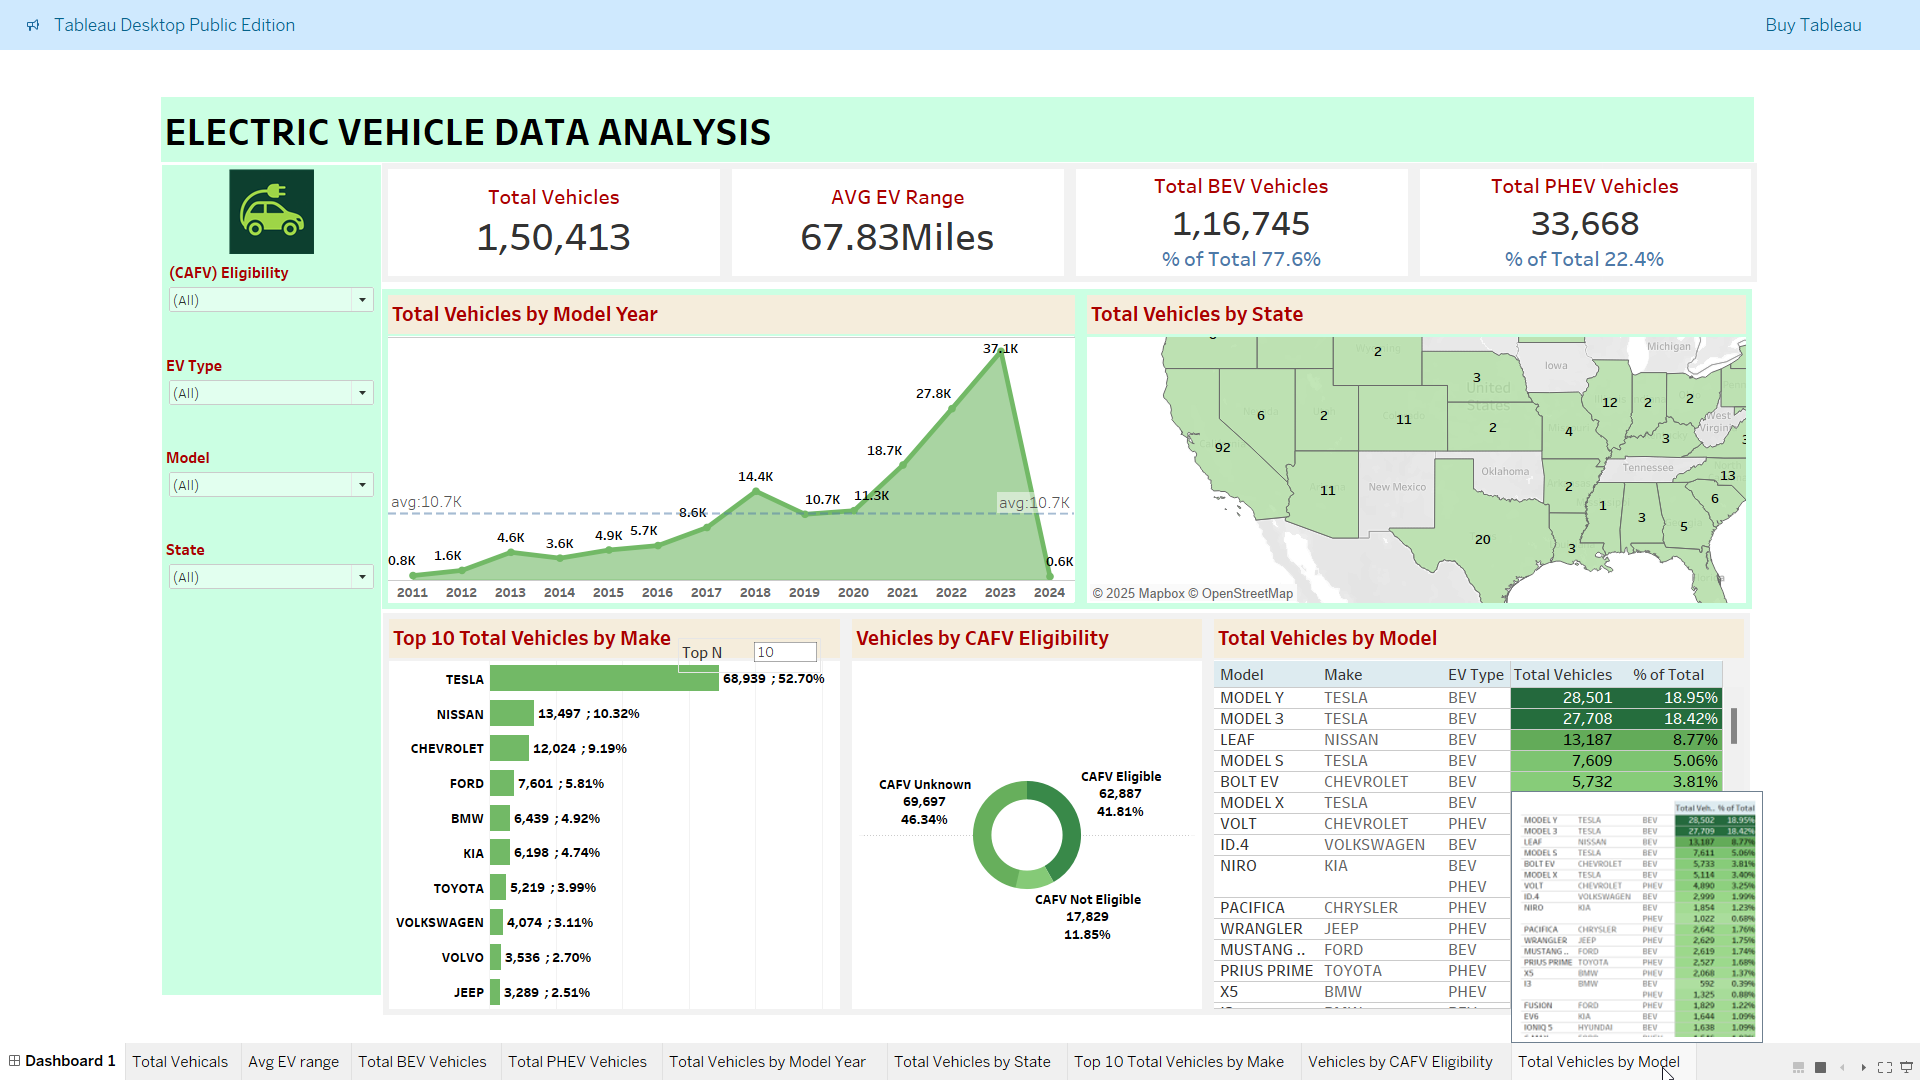

What the dashboard file says about the page in this screenshot:
{"tool":"tableau","page":{"name":"Dashboard 1","canvas":[1600,900],"ordinal":0},"visuals":[{"type":"title","box":[1,1,1593,65]},{"type":"worksheet","title":"Total Vehicals","mark":"Automatic","box":[222,67,344,119]},{"type":"worksheet","title":"Avg EV range","mark":"Automatic","box":[566,67,344,119]},{"type":"worksheet","title":"Total BEV Vehicles","mark":"Automatic","box":[910,67,344,119]},{"type":"worksheet","title":"Total PHEV Vehicles","mark":"Automatic","box":[1254,67,343,119]},{"type":"image","param":"C:/Users/Sagar/OneDrive/Desktop/Data Analyts Projects/Tableu project/ChatGPT Ima","box":[2,69,219,93]},{"type":"filter","title":"Total Vehicles by Model Year ","param":"[federated.1nxumlh0wo800a1en107r0w7odo1].[none:Clean Alternative Fuel Vehicle (C","box":[2,162,219,93]},{"type":"worksheet","title":"Total Vehicles by Model Year ","mark":"Area","rows":["Calculation_784189350470107136","Calculation_784189350470107136"],"cols":["Model Year"],"box":[222,193,699,320]},{"type":"worksheet","title":"Total Vehicles by State","mark":"Multipolygon","box":[921,193,671,320]},{"type":"filter","title":"Total Vehicles by State","param":"[federated.1nxumlh0wo800a1en107r0w7odo1].[none:Electric Vehicle Type:nk]","box":[2,255,219,92]},{"type":"filter","title":"Total Vehicles by State","param":"[federated.1nxumlh0wo800a1en107r0w7odo1].[none:Model:nk]","box":[2,347,219,92]},{"type":"filter","title":"Total Vehicles by State","param":"[federated.1nxumlh0wo800a1en107r0w7odo1].[none:State:nk]","box":[2,439,219,92]},{"type":"blank","box":[2,531,219,92]},{"type":"parameter","param":"[Parameters].[Parameter 1]","box":[518,542,143,35]},{"type":"blank","box":[2,623,219,92]},{"type":"blank","box":[2,715,219,92]},{"type":"blank","box":[2,807,219,92]}]}

Visuals, with their boxes on the page's 1600x900 design canvas (x1, y1, x2, y2). These are canvas units, not pixel positions in the 1920x1080 screenshot, which may show the page scaled, cropped or inside an application window:
title: box=[1, 1, 1594, 66]
"Total Vehicals" worksheet: box=[222, 67, 566, 186]
"Avg EV range" worksheet: box=[566, 67, 910, 186]
"Total BEV Vehicles" worksheet: box=[910, 67, 1254, 186]
"Total PHEV Vehicles" worksheet: box=[1254, 67, 1597, 186]
image: box=[2, 69, 221, 162]
"Total Vehicles by Model Year " filter: box=[2, 162, 221, 255]
"Total Vehicles by Model Year " worksheet (Area marks): box=[222, 193, 921, 513]
"Total Vehicles by State" worksheet (Multipolygon marks): box=[921, 193, 1592, 513]
"Total Vehicles by State" filter: box=[2, 255, 221, 347]
"Total Vehicles by State" filter: box=[2, 347, 221, 439]
"Total Vehicles by State" filter: box=[2, 439, 221, 531]
blank: box=[2, 531, 221, 623]
parameter: box=[518, 542, 661, 577]
blank: box=[2, 623, 221, 715]
blank: box=[2, 715, 221, 807]
blank: box=[2, 807, 221, 899]
